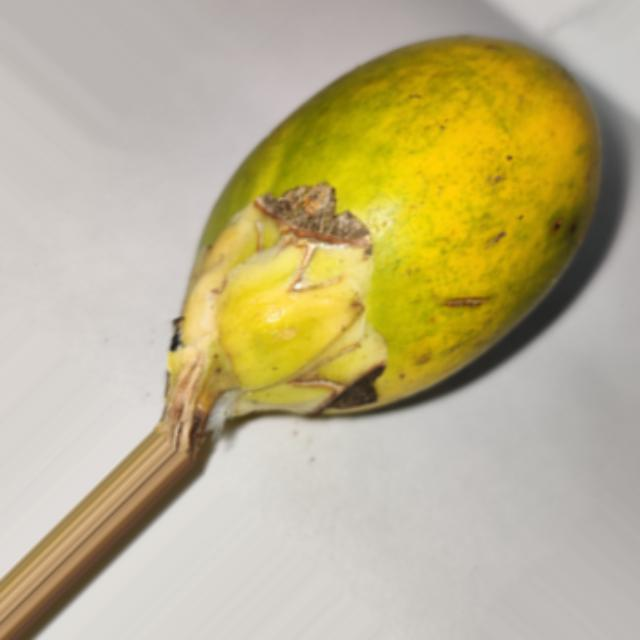damaged: (194, 38, 592, 417)
